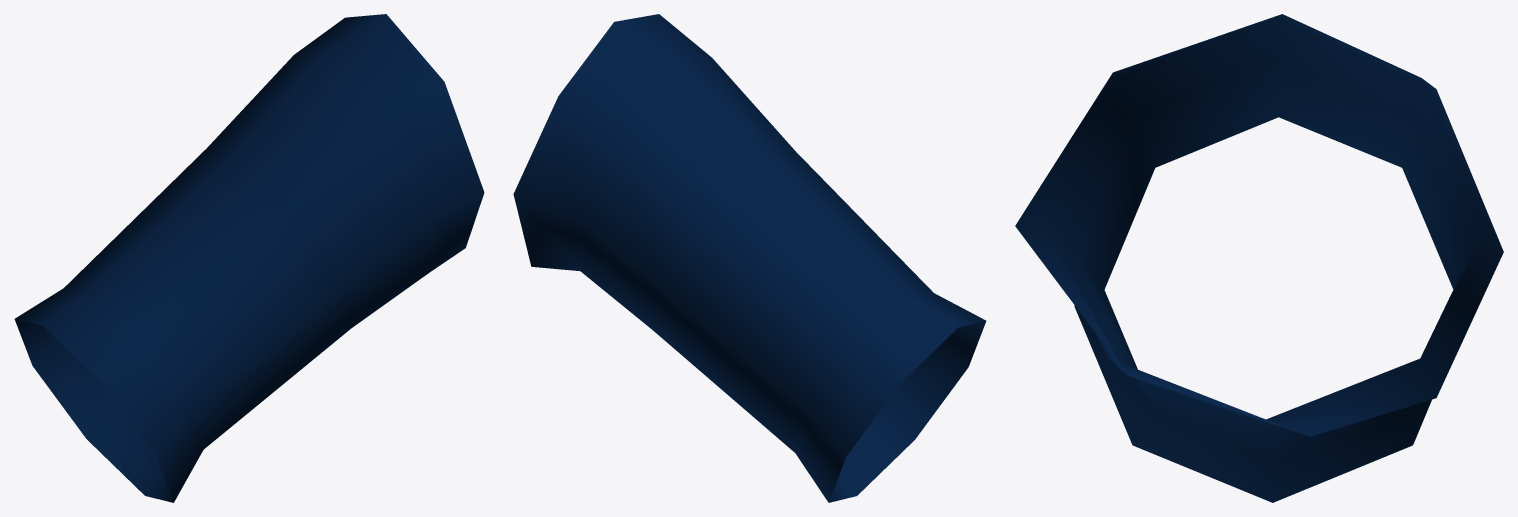
The model's file is leftupper.obj.
3 views of the same model, side by side, from view 1: azimuth 30°, elevation 25°; view 2: azimuth 150°, elevation 25°; view 3: azimuth 270°, elevation 25° (orthographic). The views are drawn at different scales.
Parts seen in each view (by area): view 1: polySurface6 _Mesh1; view 2: polySurface6 _Mesh1; view 3: polySurface6 _Mesh1.
Part boxes in pixels (left/top/right/bottom): polySurface6 _Mesh1: left=14, top=14, right=484, bottom=502; polySurface6 _Mesh1: left=513, top=14, right=986, bottom=502; polySurface6 _Mesh1: left=1015, top=14, right=1503, bottom=502.
Size of the model in its own units: 15.8 by 16.73 by 10.94.
